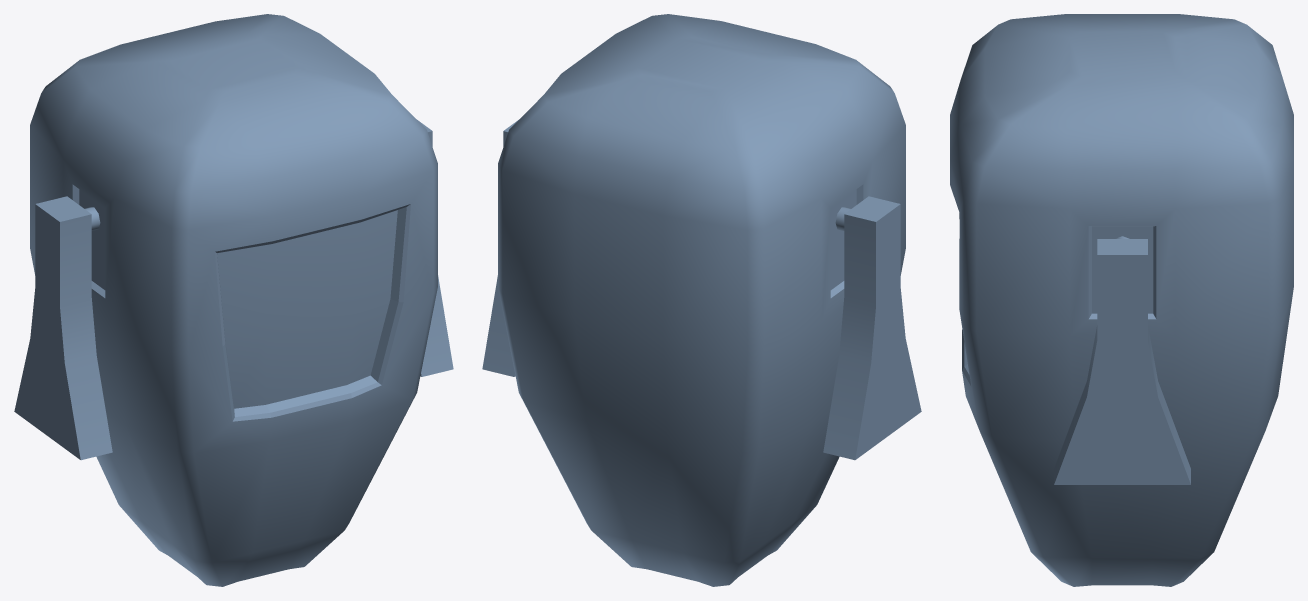
The model's file is rcBotPushyAssy.FBX.
3 renders of one model, left to right at view 1: azimuth 30°, elevation 25°; view 2: azimuth 150°, elevation 25°; view 3: azimuth 270°, elevation 25°, orthographic. The views are drawn at different scales.
Visible parts, largest first — view 1: botPushy, botPushyFace, botPushyArm, botPushyArmOpp; view 2: botPushy, botPushyArm, botPushyArmOpp; view 3: botPushy, botPushyArmOpp.
Part boxes in pixels (left/top/right/bottom): botPushy: left=30, top=14, right=437, bottom=586; botPushyFace: left=217, top=210, right=397, bottom=408; botPushyArm: left=14, top=196, right=112, bottom=460; botPushyArmOpp: left=417, top=120, right=453, bottom=376; botPushy: left=498, top=14, right=905, bottom=586; botPushyArm: left=823, top=196, right=921, bottom=460; botPushyArmOpp: left=482, top=120, right=518, bottom=376; botPushy: left=950, top=14, right=1293, bottom=586; botPushyArmOpp: left=1054, top=239, right=1190, bottom=484.
Bounding box in the file's own units: 0.7 × 0.9 × 0.5419.
